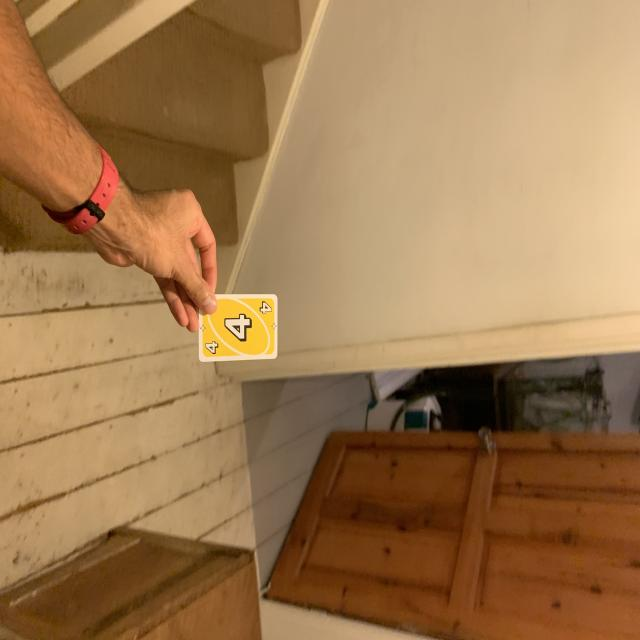lyellow-4: (256, 297, 274, 321)
